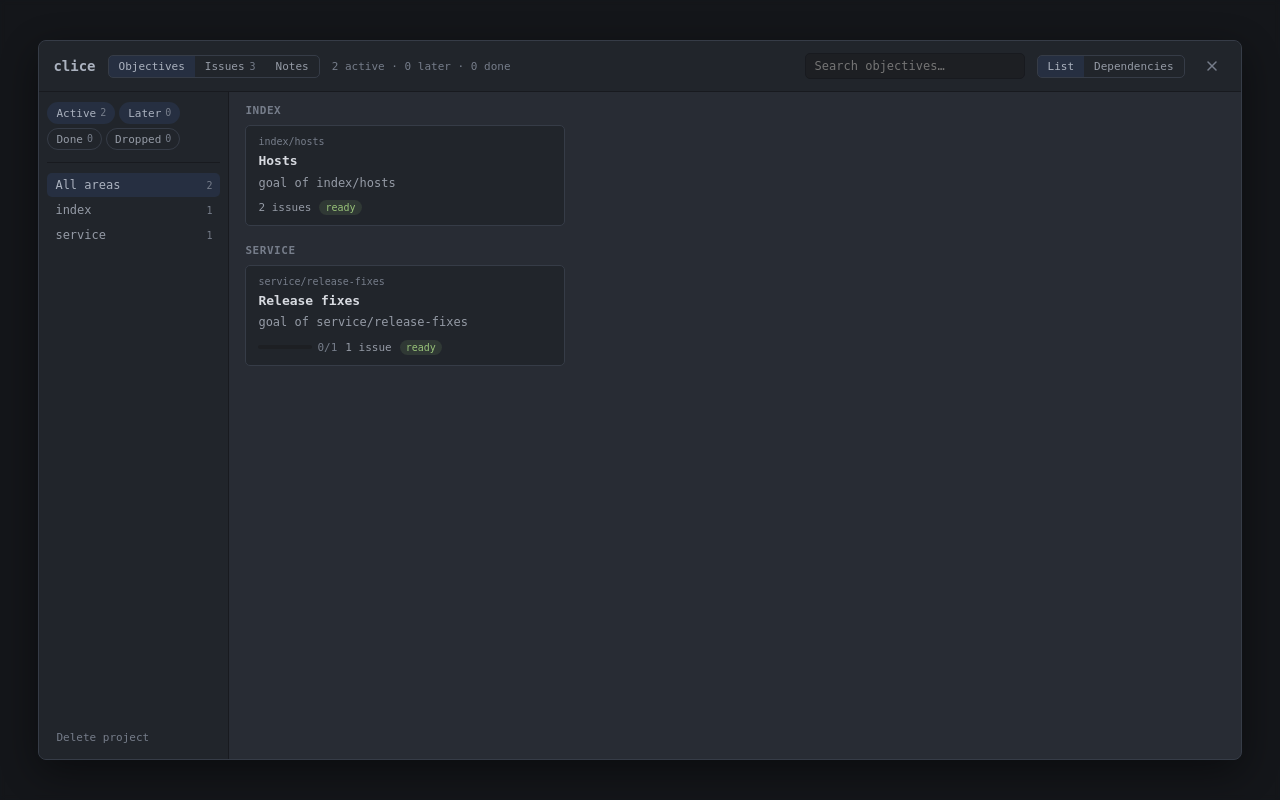
the issues view › shows the open and to-decide issues by module and group, with the group's notes
The image size is (1280, 800).
What coordinates should you click on to do the following:
click the button "Issues3"
I would click on:
 (230, 66)
Its box is top-left (195, 56), bottom-right (266, 76).
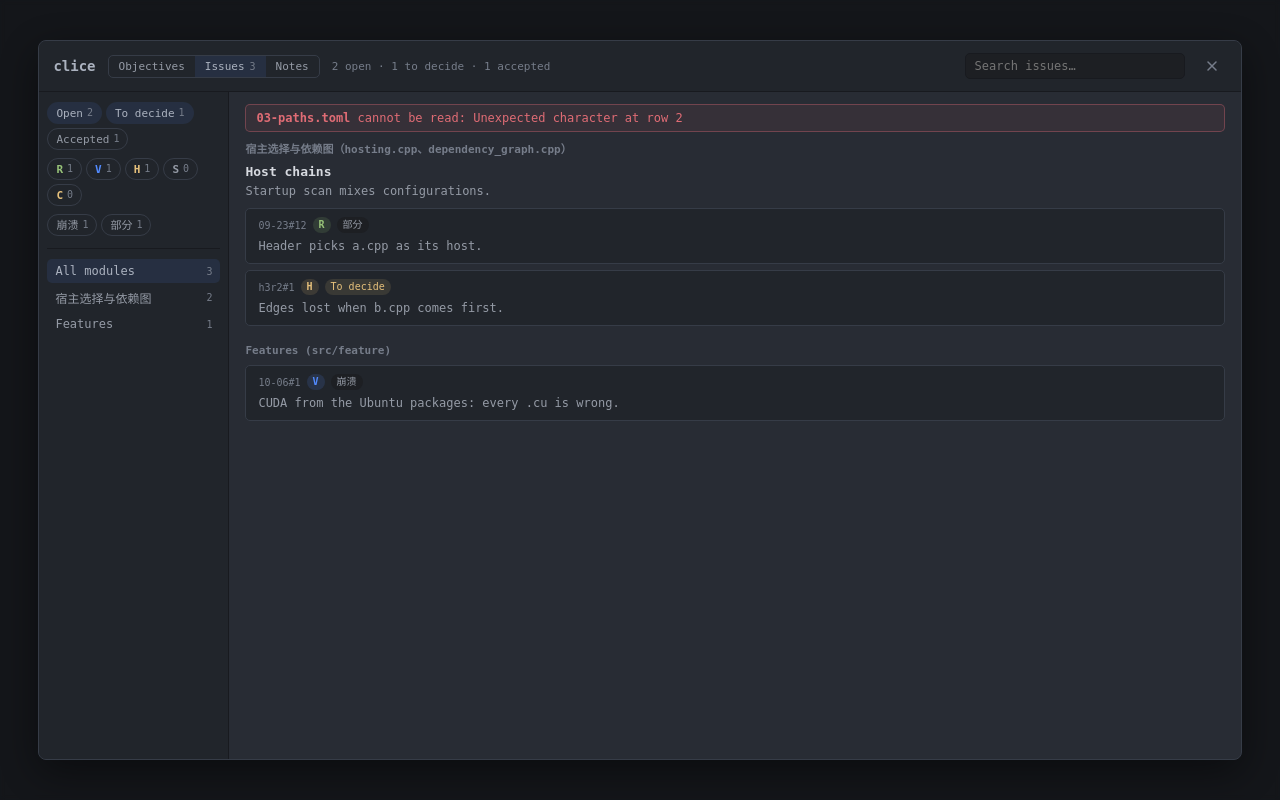
Now the text with class "bp-summary" reads "2 open · 1 to decide · 1 accepted", box top-left (332, 60), bottom-right (550, 72)
Now the heading with class "bi-group-title" reads "Host chains", box top-left (245, 164), bottom-right (332, 179)
Now the text with class "bi-group-notes" reads "Startup scan mixes configurations.", box top-left (245, 184), bottom-right (491, 198)
